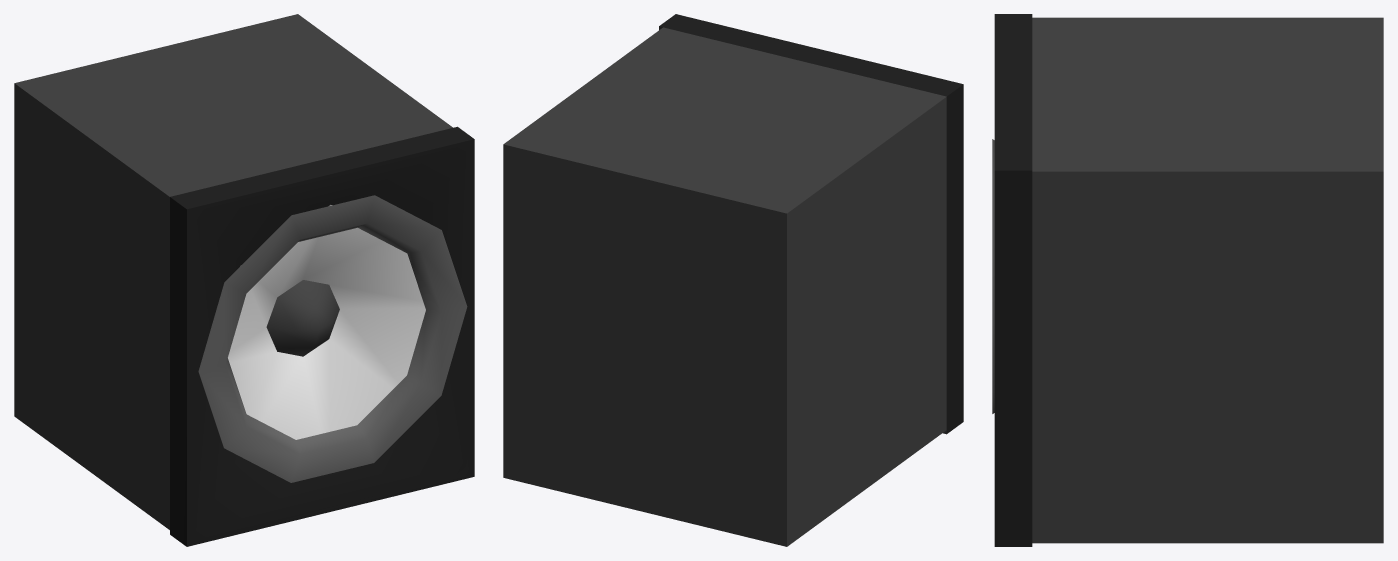
The model's file is musical_instrument_007.glb.
The picture shows the model from 3 angles, left to right: view 1: azimuth 30°, elevation 25°; view 2: azimuth 150°, elevation 25°; view 3: azimuth 270°, elevation 25°; orthographic projection. The views are drawn at different scales.
Parts seen in each view (by area): view 1: musical_instrument_007; view 2: musical_instrument_007; view 3: musical_instrument_007.
Boxes of the visible parts, bbox=[...] form: musical_instrument_007: bbox=[14, 14, 474, 546]; musical_instrument_007: bbox=[503, 14, 963, 546]; musical_instrument_007: bbox=[992, 14, 1383, 546].
Bounding box in the file's own units: 0.4132 × 0.4633 × 0.4366.
1 material, 1 textured.
